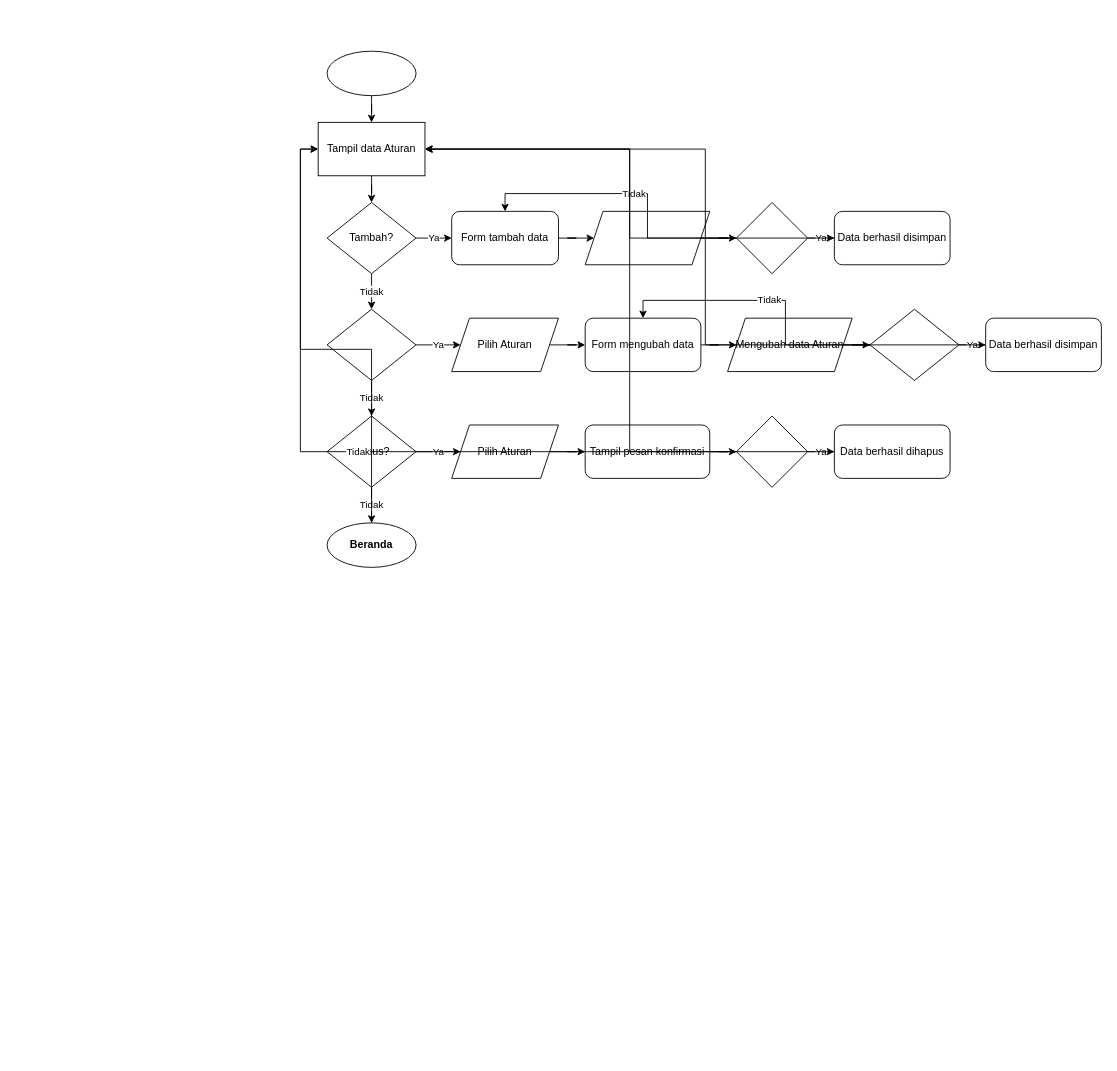
Image size: 1117x1071. Some labels were removed from this diagram. Here are the shapes that lost their labels. From the top down, the centre of each, then its label:
At (371,73): "Mulai".
At (647,237): "Masukan data Aturan".
At (772,238): "Simpan?".
At (371,344): "Edit?".
At (914,344): "Pilih Simpan?".
At (772,451): "Pilih Ok?".
